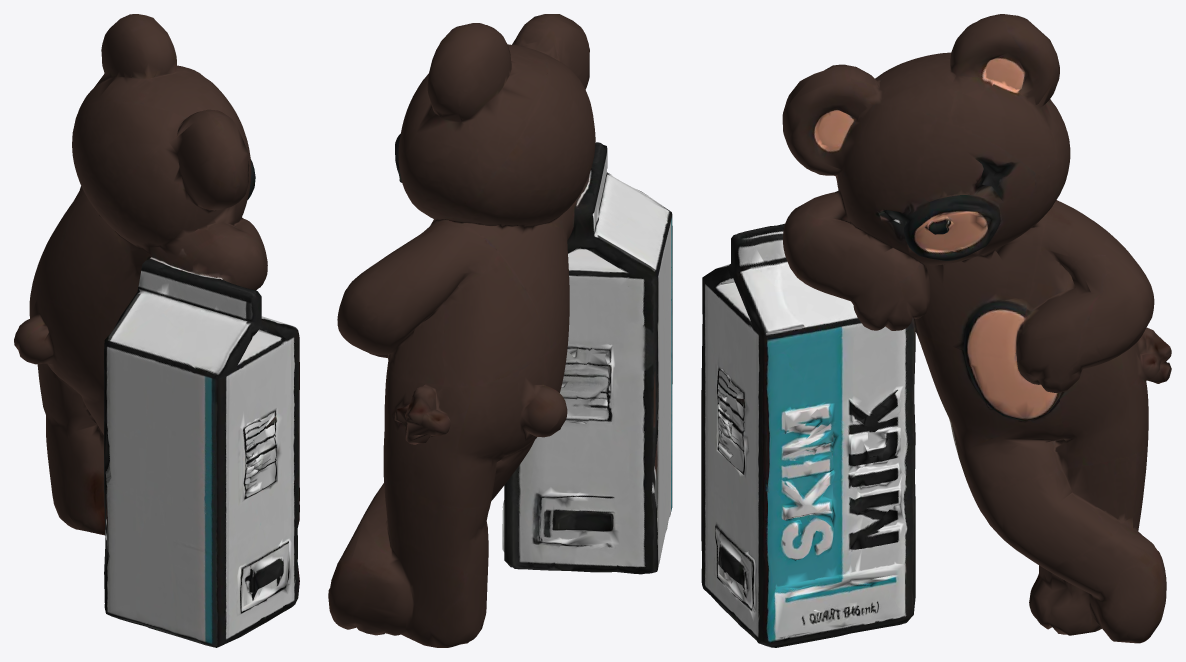
File: bear-carton.glb
3 views of the same model, side by side, from view 1: azimuth 30°, elevation 25°; view 2: azimuth 150°, elevation 25°; view 3: azimuth 270°, elevation 25° (orthographic). The views are drawn at different scales.
Parts seen in each view (by area): view 1: tripo_node_7d9b7785-0ea2-4842-a1af-b0e9fe932214; view 2: tripo_node_7d9b7785-0ea2-4842-a1af-b0e9fe932214; view 3: tripo_node_7d9b7785-0ea2-4842-a1af-b0e9fe932214.
Part boxes in pixels (x1,y1,x2,y2): tripo_node_7d9b7785-0ea2-4842-a1af-b0e9fe932214: (14,14,299,647); tripo_node_7d9b7785-0ea2-4842-a1af-b0e9fe932214: (328,14,672,647); tripo_node_7d9b7785-0ea2-4842-a1af-b0e9fe932214: (701,14,1171,647).
Size of the model in its own units: 0.3632 by 0.9787 by 0.6898.
1 material, 1 textured.
